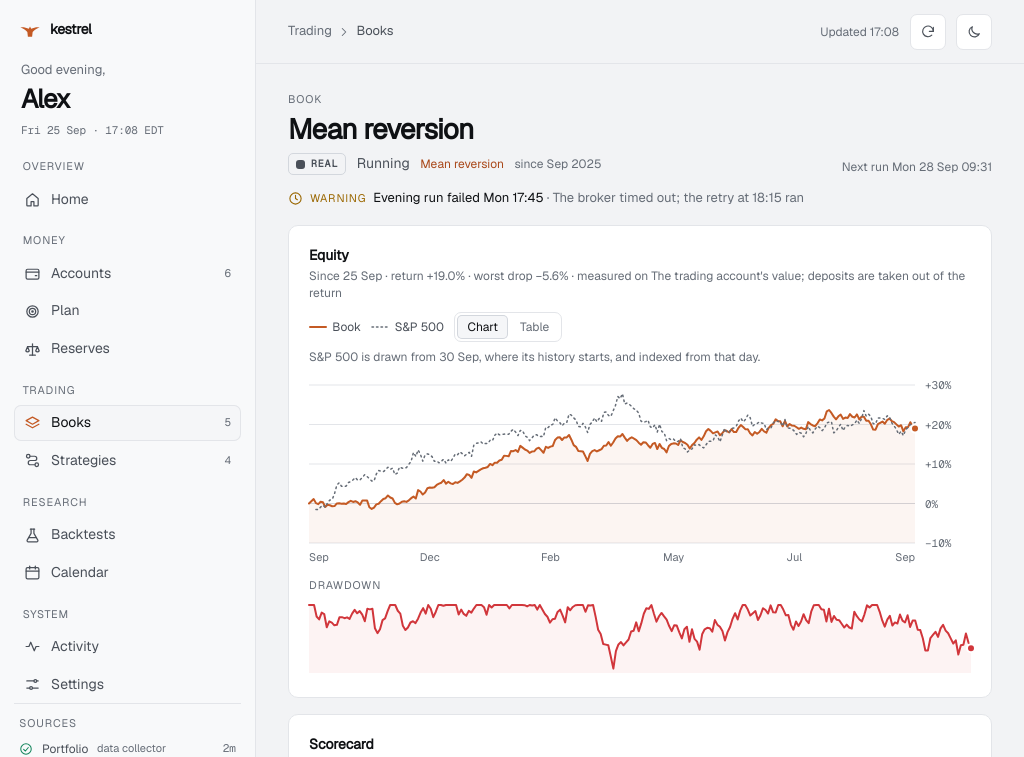
Book › names the benchmark, says when its history starts later, and offers a table view
expect the text "S&P 500" is shown: met, box left=372, top=319, right=444, bottom=335
expect the text "S&P 500 is drawn from 30 Sep, where its history starts" is shown: met, box left=309, top=349, right=760, bottom=365
Click the button "Table".
click(535, 327)  # box left=510, top=315, right=559, bottom=339
(page scrolled)
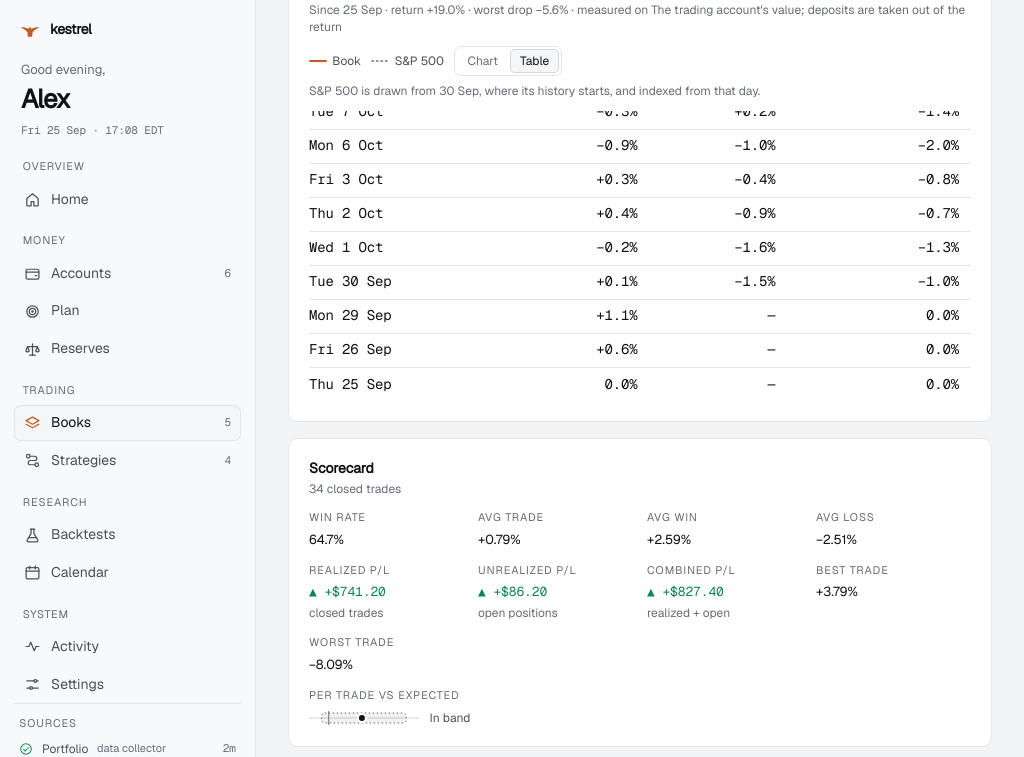
expect the row "Thu 25 Sep 0.0% — 0.0%" is shown: met, box left=309, top=367, right=971, bottom=401
